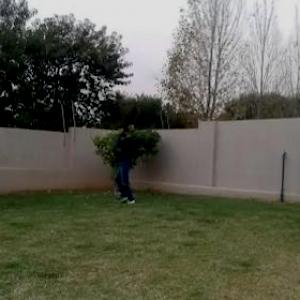follow: (115, 120, 137, 211)
